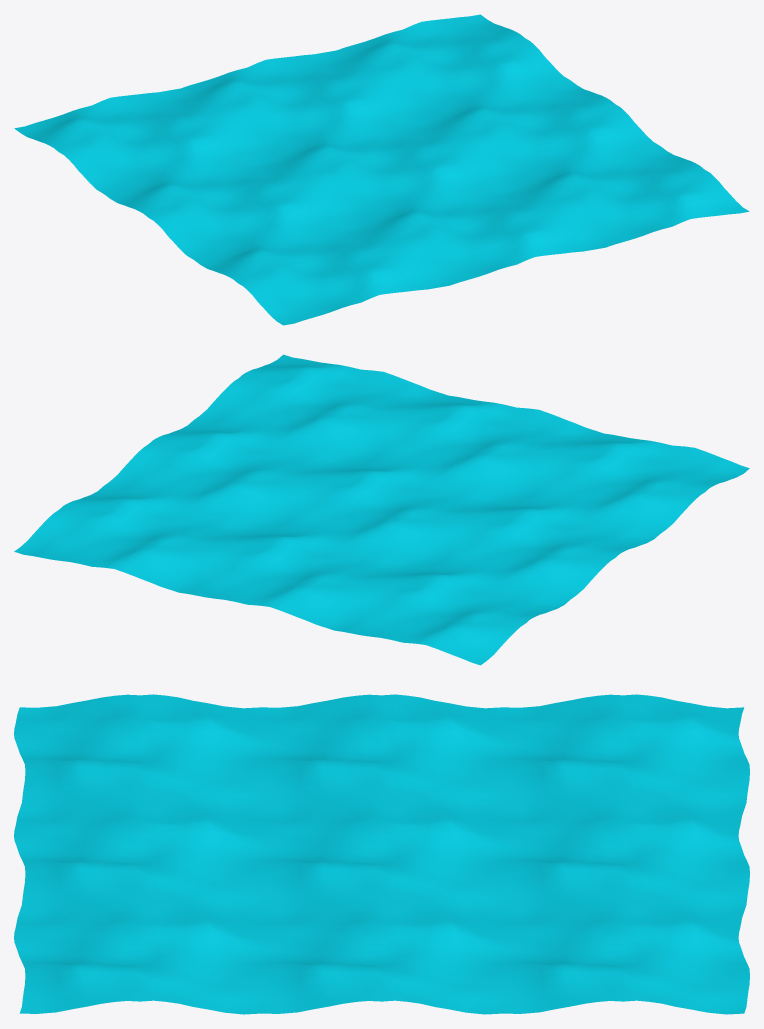
Rendered from вода.fbx.
3 renders of one model, top to bottom at view 1: azimuth 30°, elevation 25°; view 2: azimuth 150°, elevation 25°; view 3: azimuth 270°, elevation 25°, orthographic. The views are drawn at different scales.
Parts seen in each view (by area): view 1: Плоскость; view 2: Плоскость; view 3: Плоскость.
Boxes of the visible parts, <box> form: Плоскость: <box>14,14,749,325</box>; Плоскость: <box>14,354,749,665</box>; Плоскость: <box>14,694,749,1014</box>.
Bounding box in the file's own units: 15027 × 406 × 15235.
